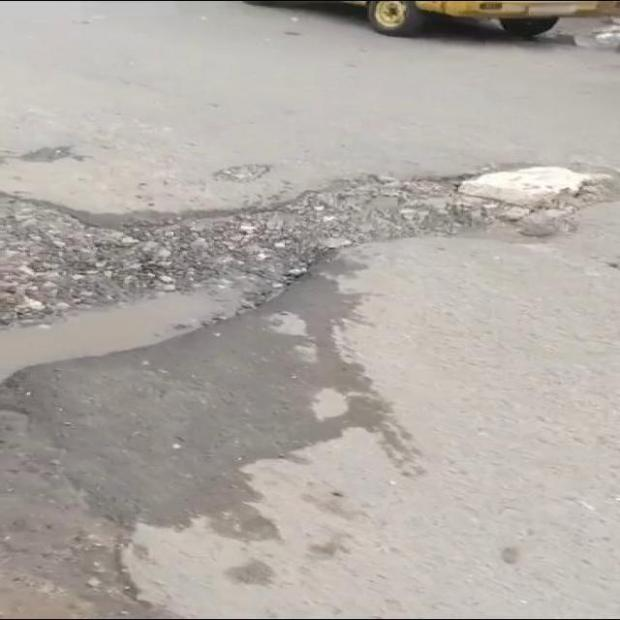lubang: (0, 168, 502, 382), (214, 164, 272, 183)
